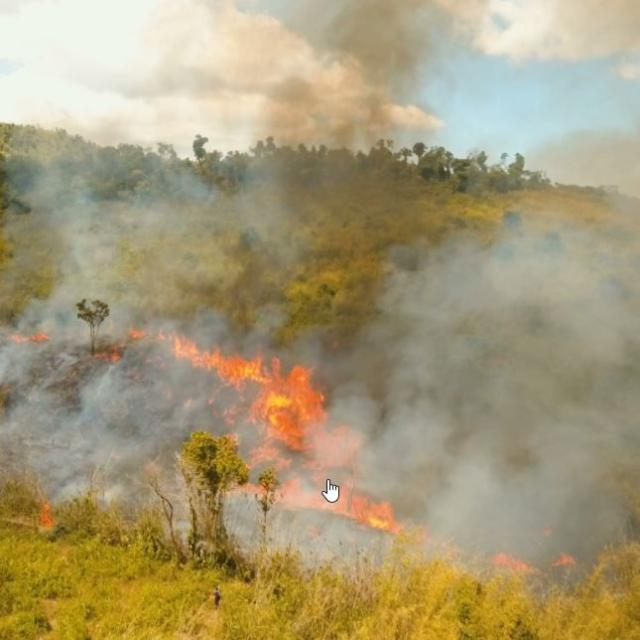Fire: (170, 320, 388, 482), (250, 478, 400, 544), (470, 547, 582, 590), (96, 324, 154, 370), (11, 320, 58, 354)
Smoke: (53, 21, 413, 288), (387, 215, 633, 548), (15, 379, 180, 518), (224, 492, 355, 572)
